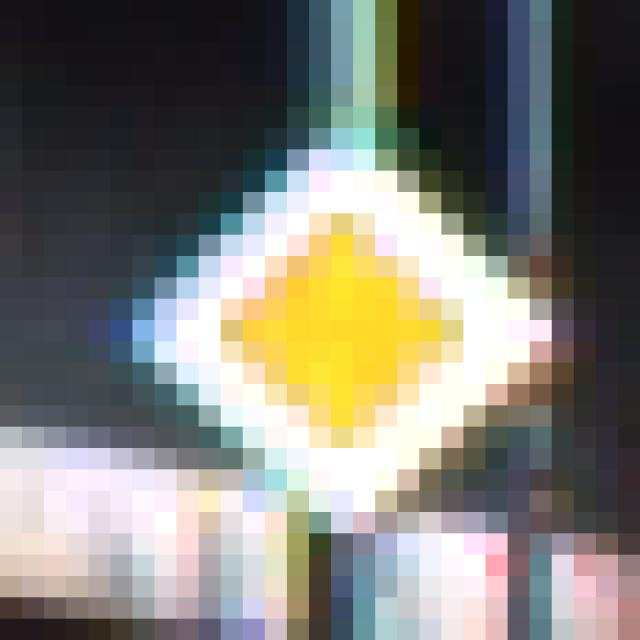Main Road: (134, 129, 531, 534)
